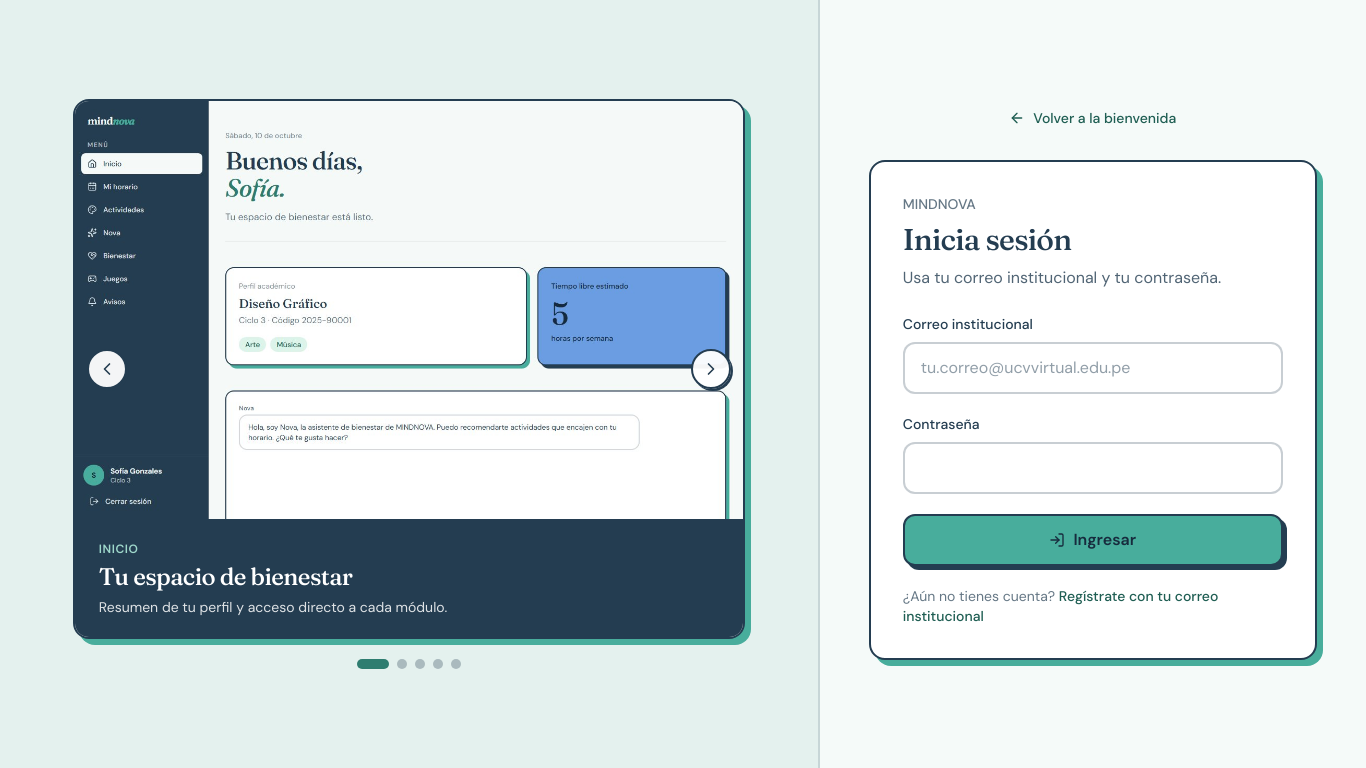
Inicio de sesión › entra a Inicio con los datos ingresados
Type "ana@ucvvirtual.edu.pe" into the field labelled "Correo institucional" at (1093, 368), box x1=903 y1=342 x2=1283 y2=394
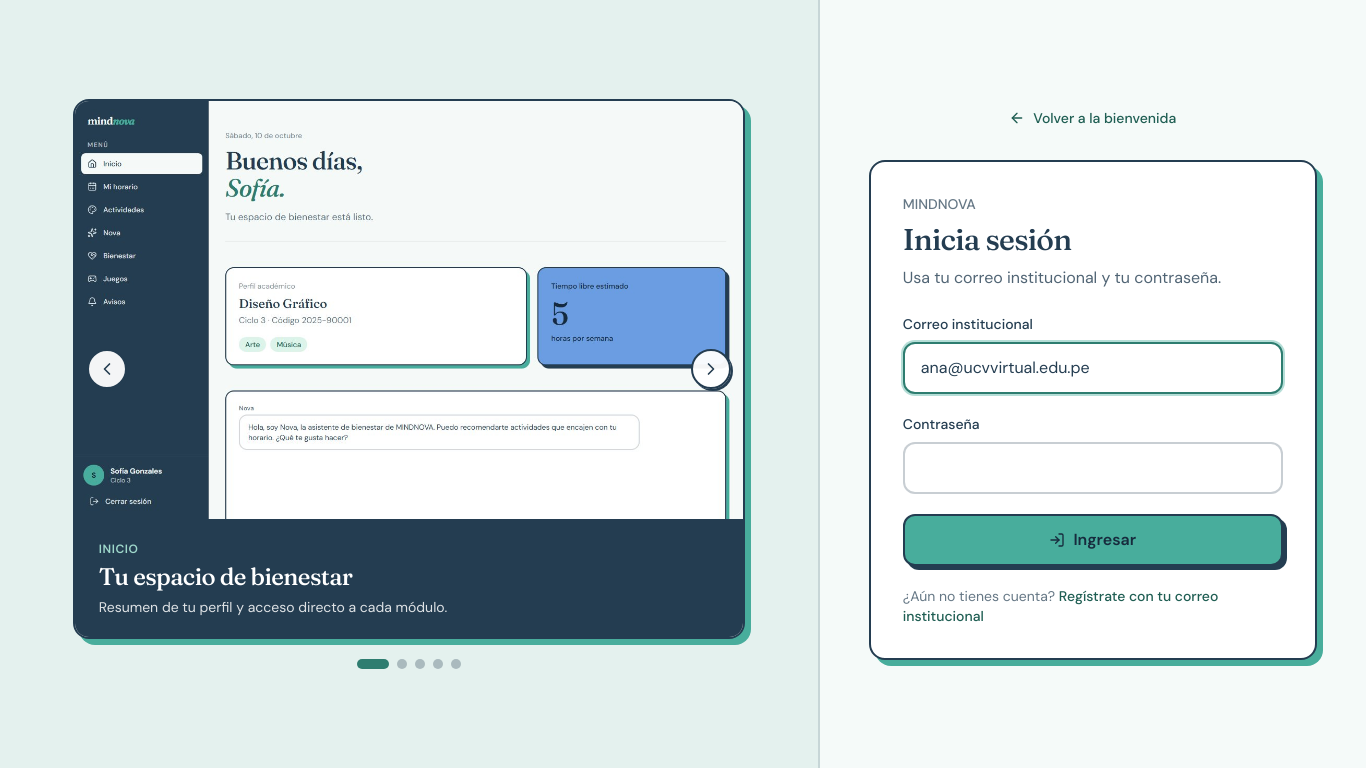
Type "12345678" into the password field labelled "Contraseña" at (1093, 468), box x1=903 y1=442 x2=1283 y2=494
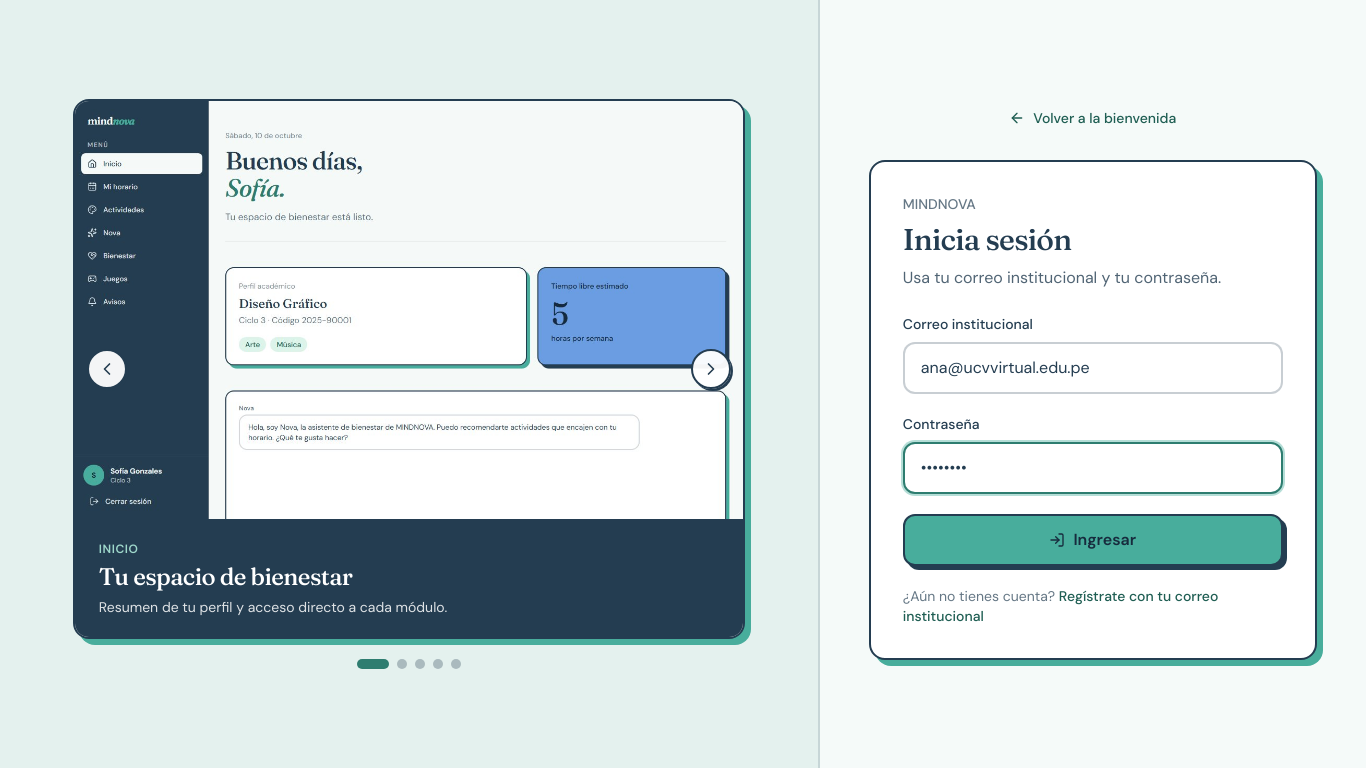
Click the button "Ingresar" at (1093, 540), box x1=903 y1=514 x2=1283 y2=566
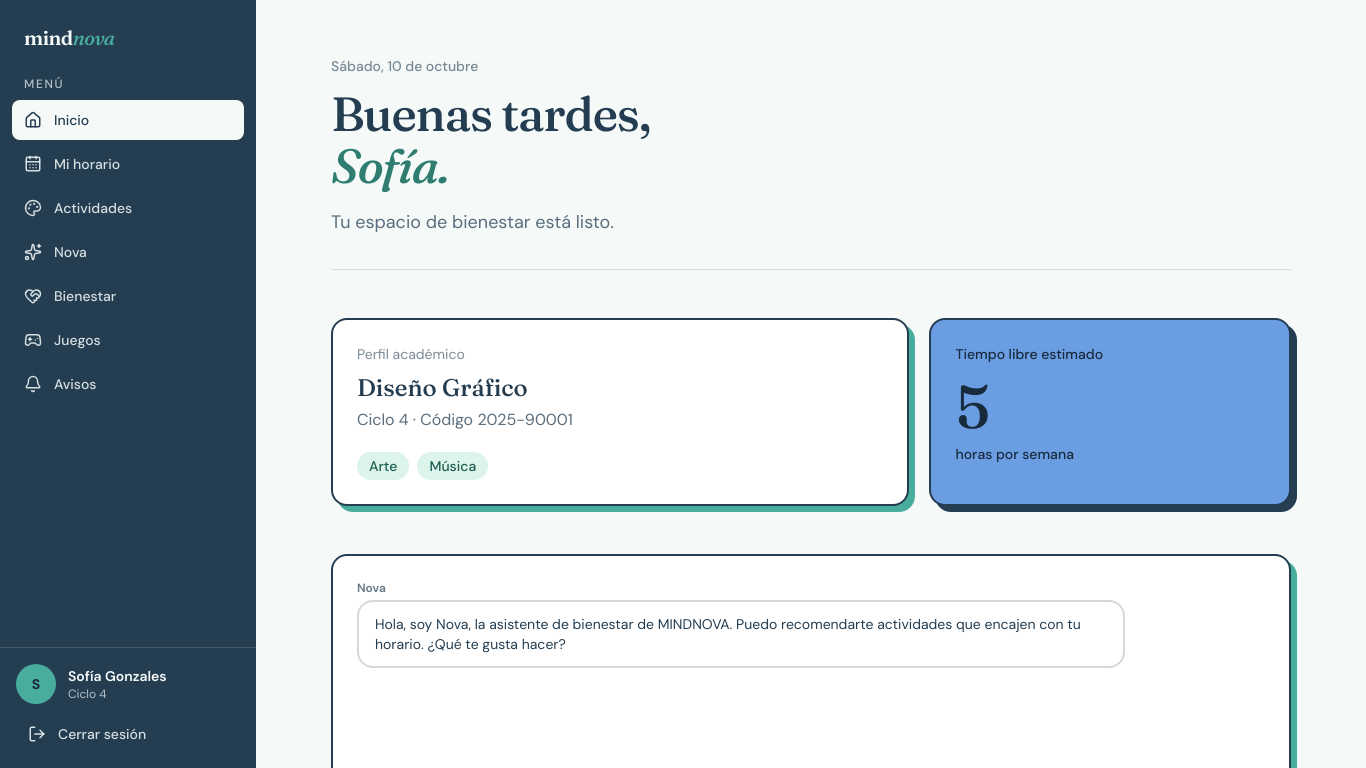
expect the heading "Buenas tardes,Sofía." is shown: met, box x1=331 y1=84 x2=650 y2=195
